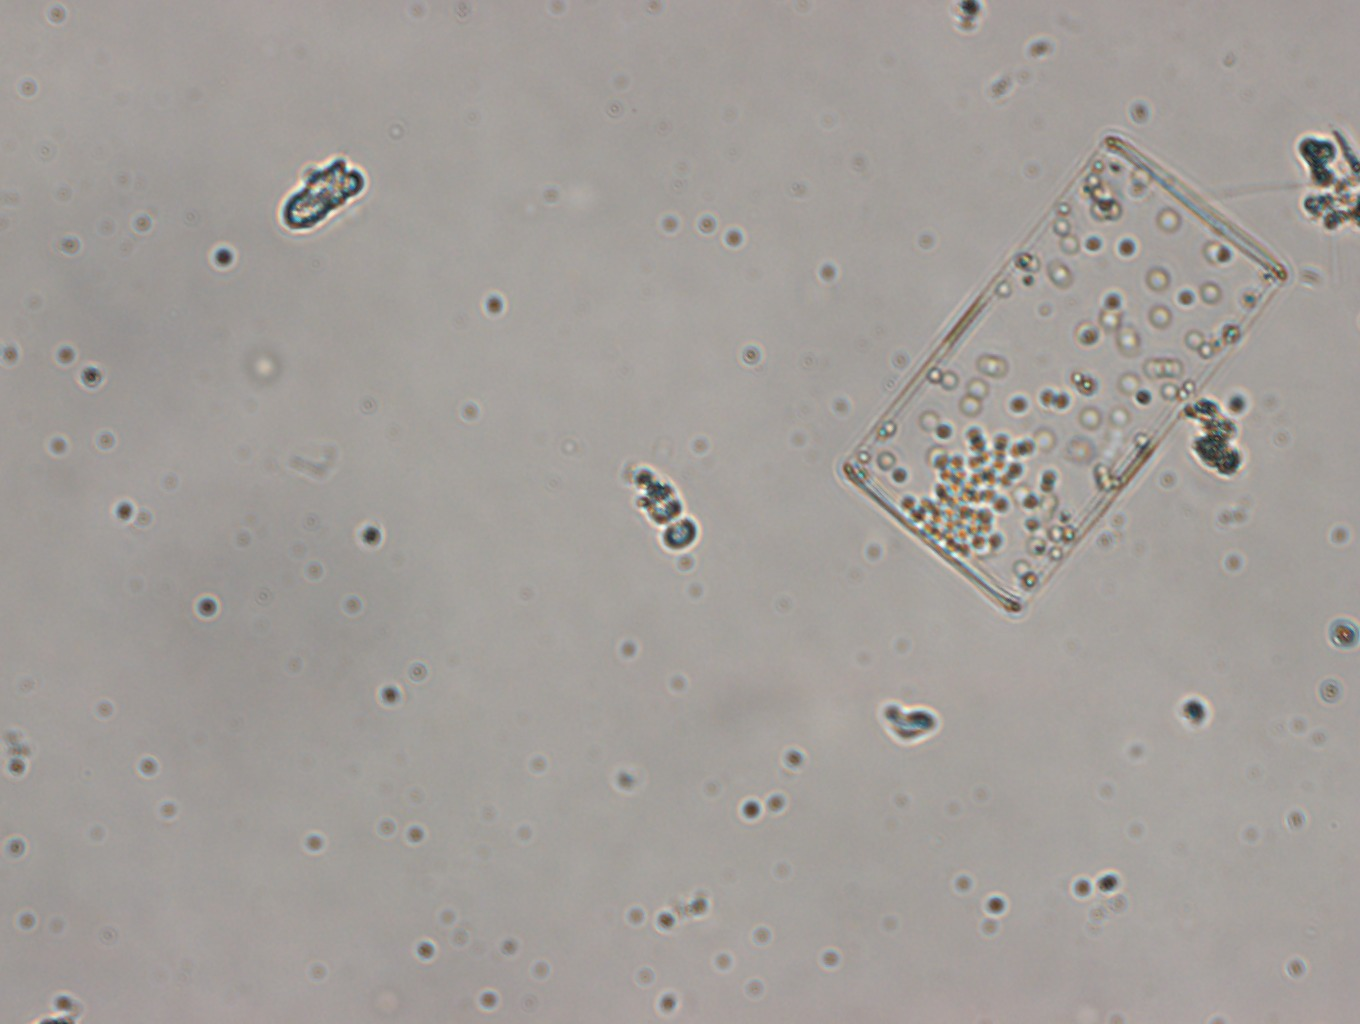guinardia flaccida: (825, 120, 1297, 626)
